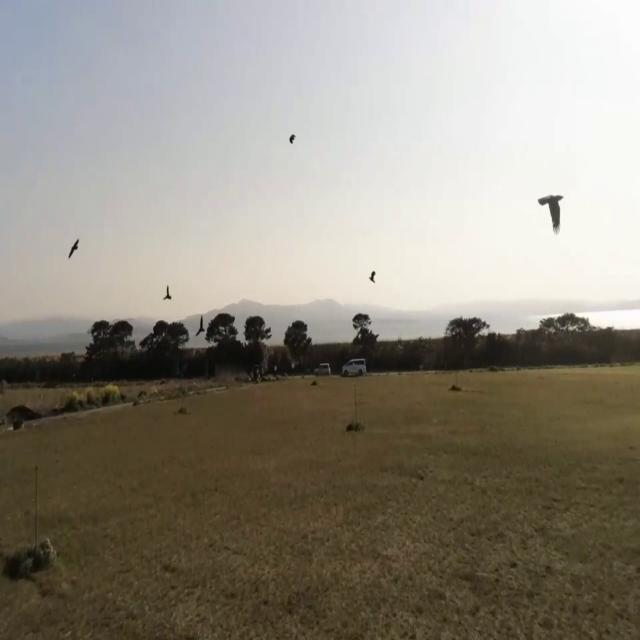bird: (539, 180, 563, 242), (66, 231, 80, 264), (164, 278, 172, 306), (288, 127, 296, 149), (369, 264, 376, 286)
